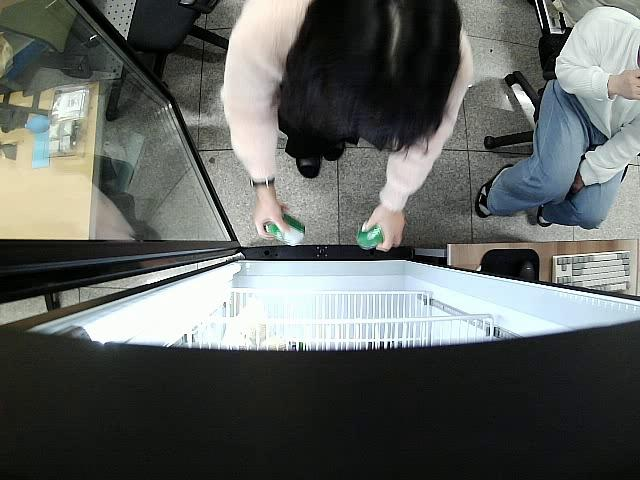00_hand: (247, 190, 290, 239), (364, 206, 405, 254)
12_chilsungCider: (264, 209, 307, 246), (356, 221, 386, 251)
